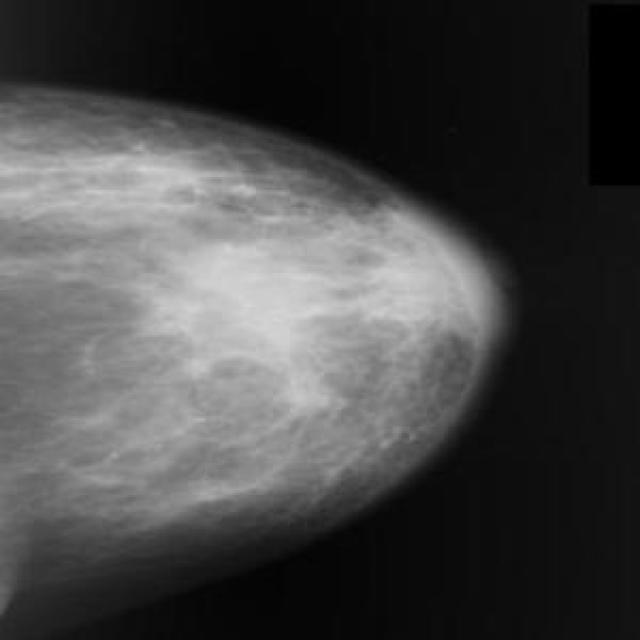tumor: (156, 234, 346, 426), (375, 192, 498, 350)
